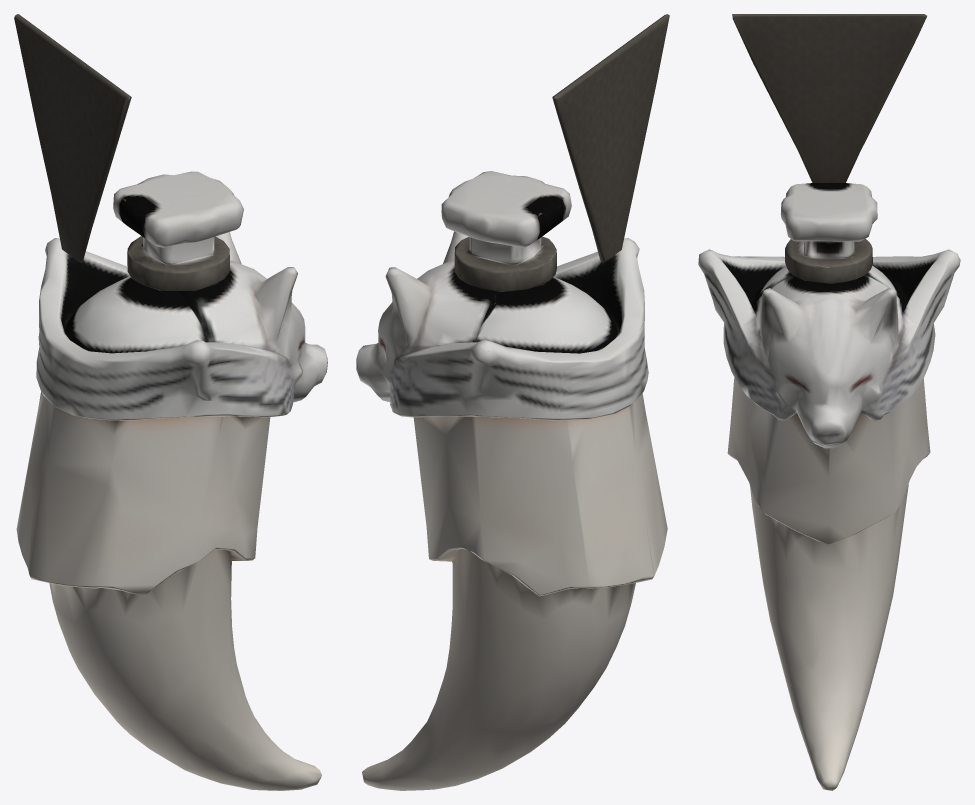
3 views of the same model, side by side, from view 1: azimuth 30°, elevation 25°; view 2: azimuth 150°, elevation 25°; view 3: azimuth 270°, elevation 25° (orthographic). The views are drawn at different scales.
Visible parts, largest first — view 1: pendant-wolf-fang; view 2: pendant-wolf-fang; view 3: pendant-wolf-fang.
Part boxes in pixels (x1,y1,x2,y2): pendant-wolf-fang: (14,14,327,790); pendant-wolf-fang: (356,14,669,790); pendant-wolf-fang: (698,14,960,790).
Size of the model in its own units: 0.0784 by 0.2016 by 0.0708.
1 material, 1 textured.
